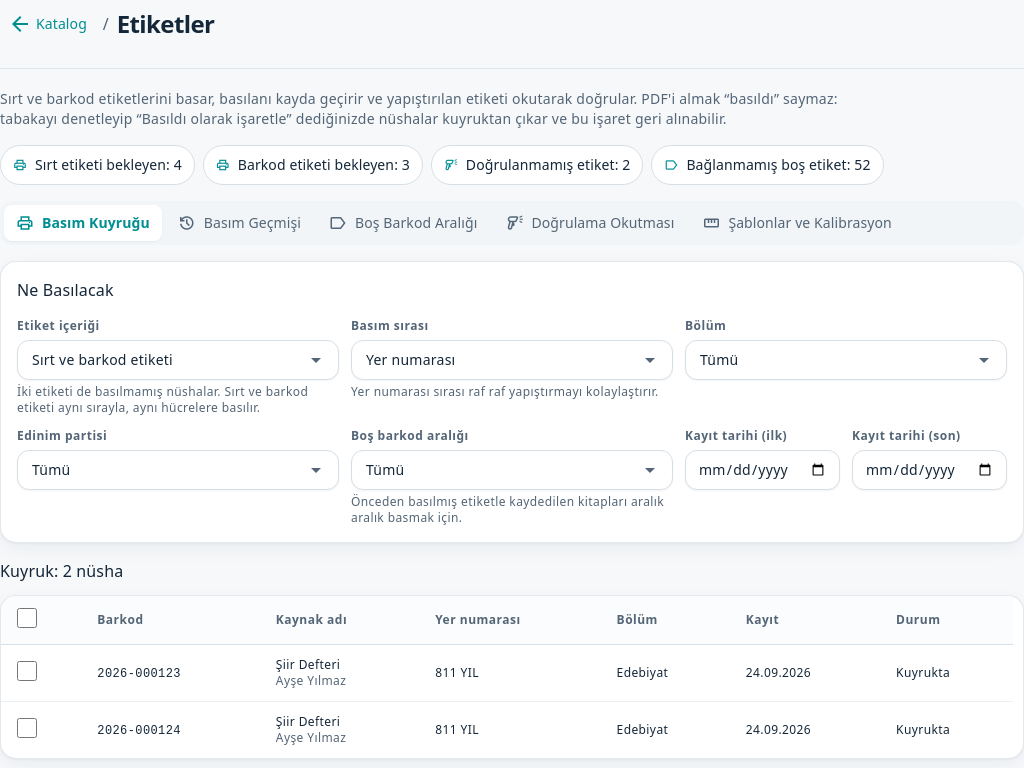
Test: Etiketler — Basım Kuyruğu › sayfadakilerin hepsi tek kutuyla seçilir ve bırakılır
Expected: the text "Kuyruk: 2 nüsha" is shown, [0,559,123,583]
What coordinates should you click on to do the following:
click the checkbox named "Sayfadakilerin hepsini seç"
I would click on:
 (27, 618)
Its box is [17,608,37,628].
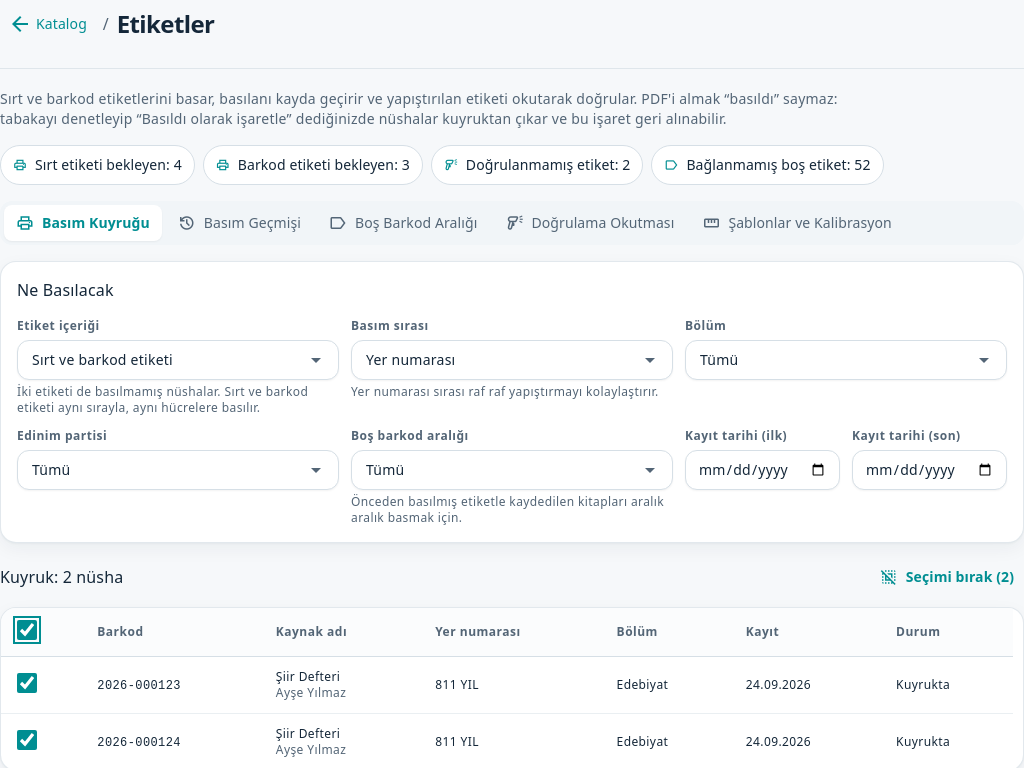
Result: the button "Seçimi bırak (2)" is shown at [870,559,1023,595]
What coordinates should you click on to do the following:
click the checkbox named "Sayfadakilerin hepsini seç"
I would click on:
 (27, 630)
Its box is [17,620,37,640].
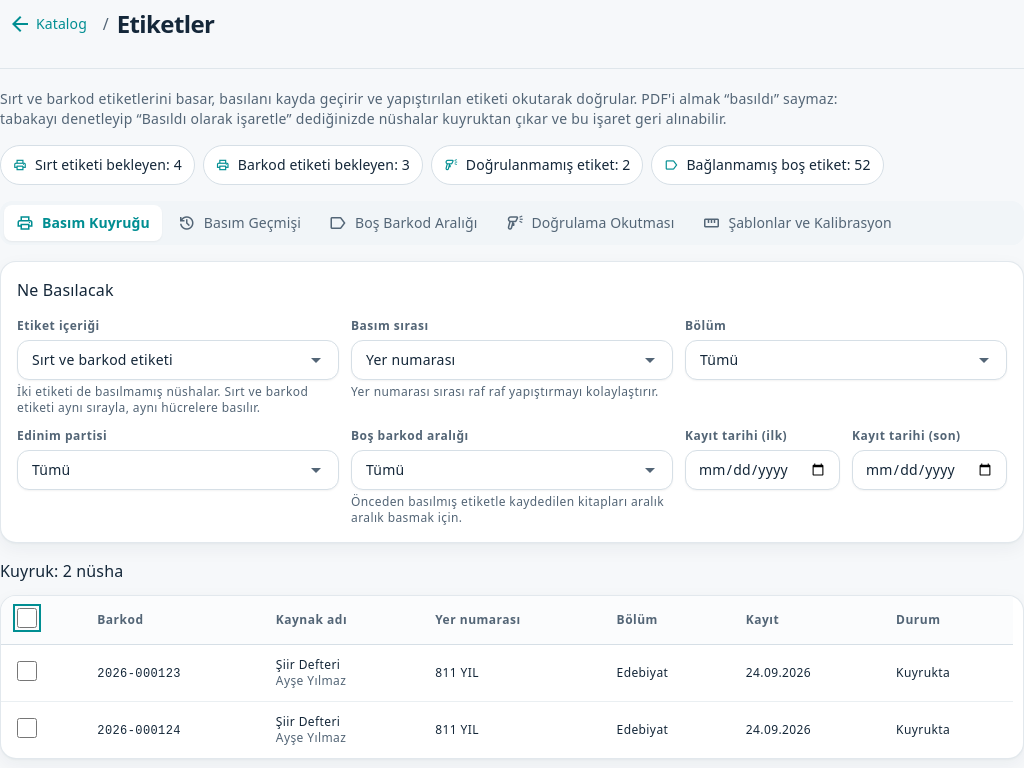
Result: the button "Seçimi bırak" is gone
